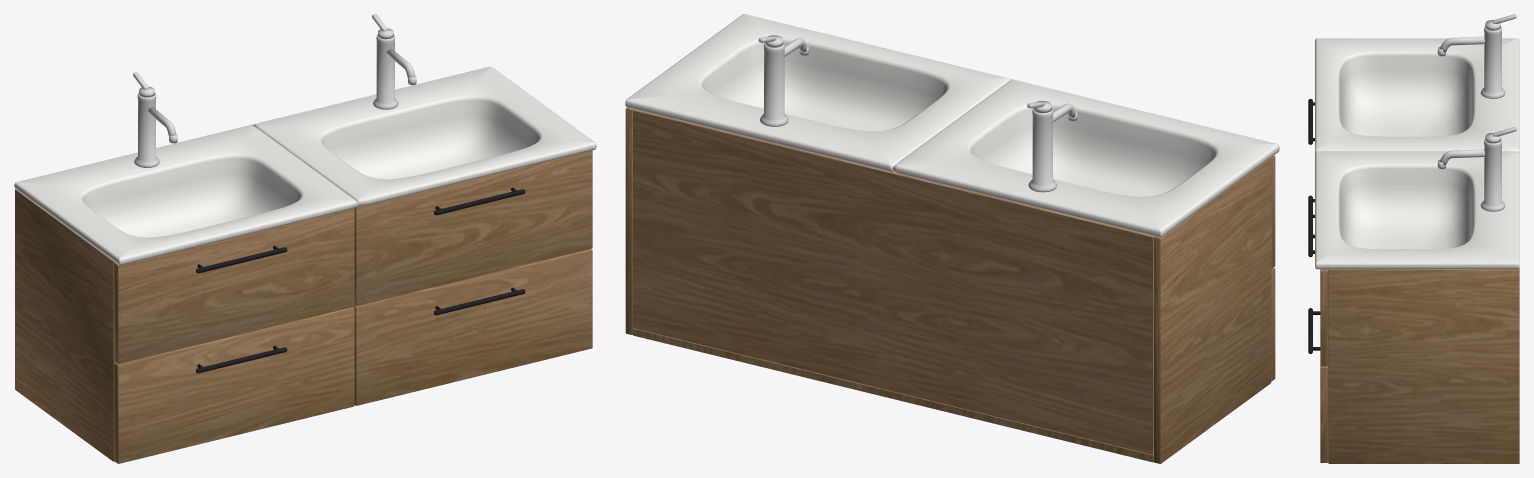
Rendered from mueble_lavabo_doble_120.glb.
3 renders of one model, left to right at view 1: azimuth 30°, elevation 25°; view 2: azimuth 150°, elevation 25°; view 3: azimuth 270°, elevation 25°, orthographic. The views are drawn at different scales.
Parts seen in each view (by area): view 1: mueble_lavabo_doble_120; view 2: mueble_lavabo_doble_120; view 3: mueble_lavabo_doble_120.
Part boxes in pixels (x1=…): mueble_lavabo_doble_120: x1=14, y1=14, x2=596, y2=463; mueble_lavabo_doble_120: x1=625, y1=14, x2=1279, y2=463; mueble_lavabo_doble_120: x1=1308, y1=14, x2=1519, y2=463.
Bounding box in the file's own units: 1.2 × 0.6963 × 0.4755.
4 materials, 1 textured.
